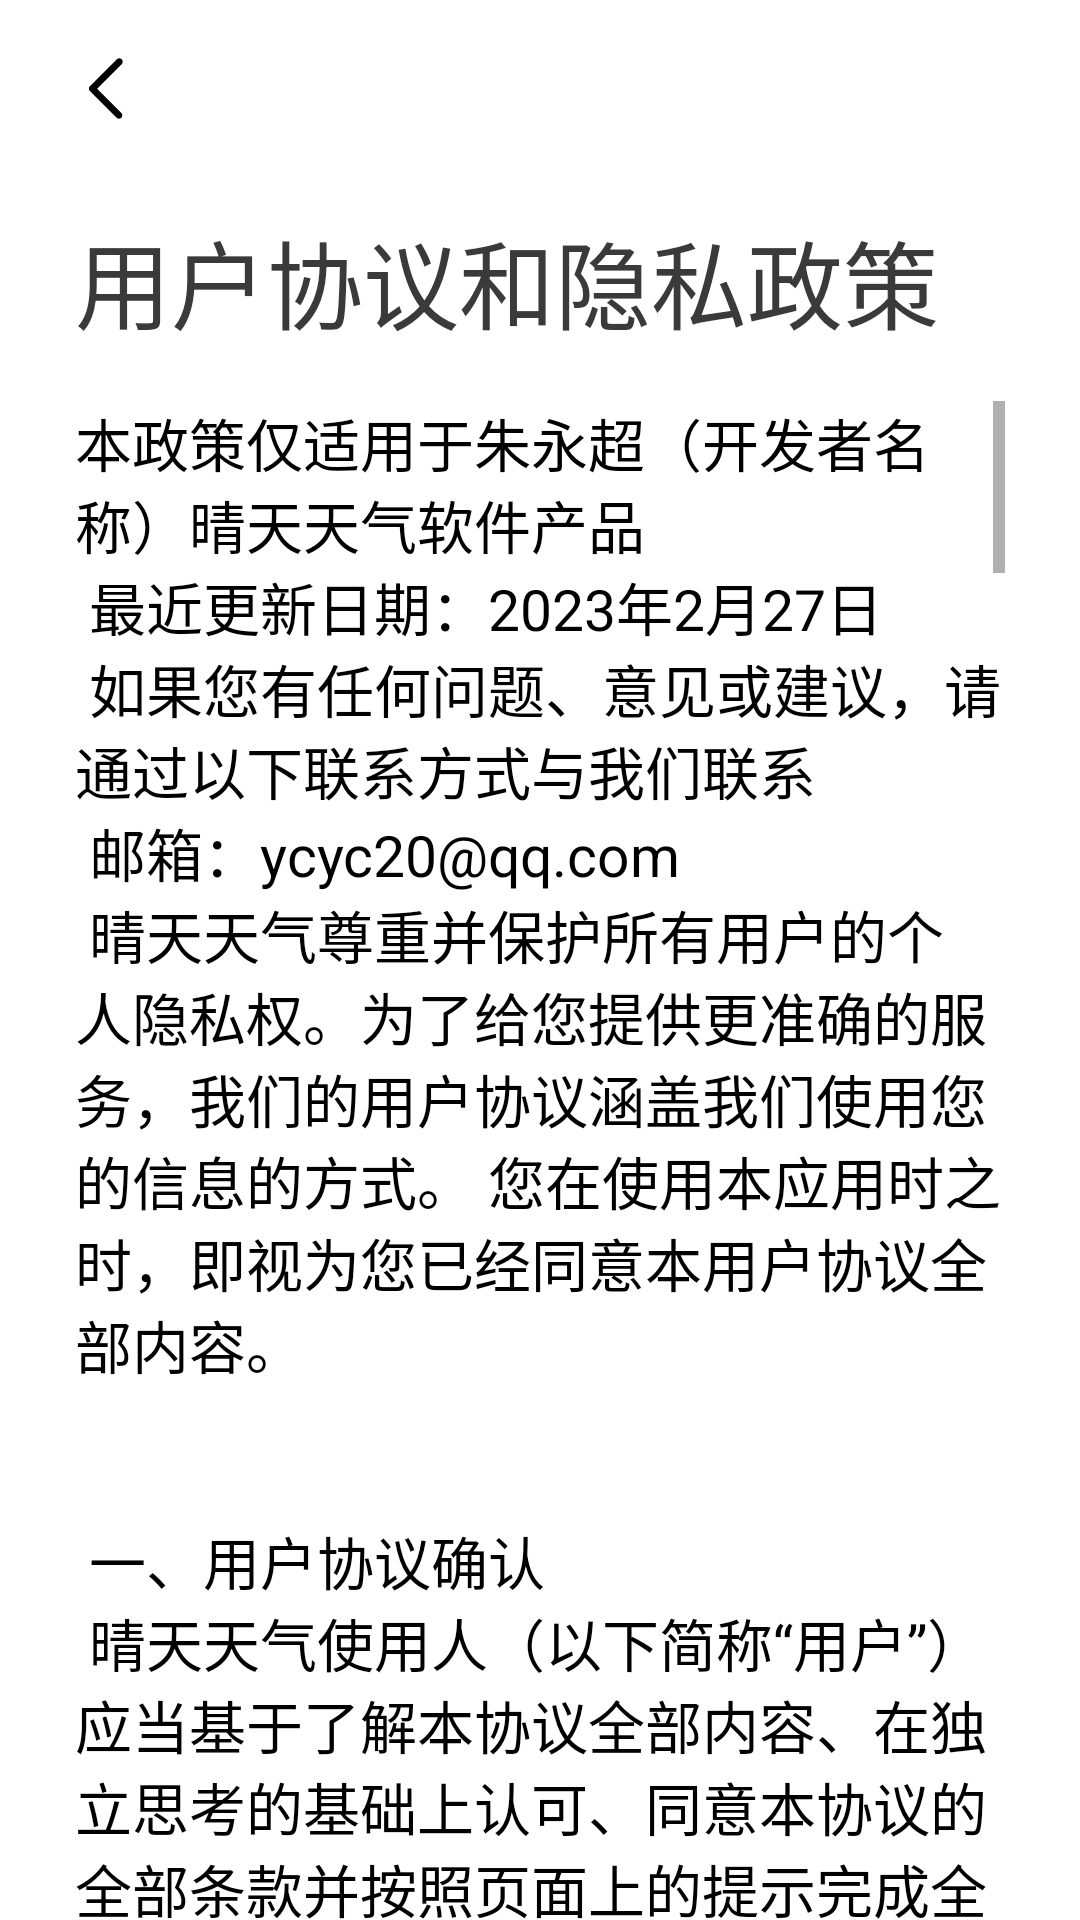

Named icons in this screenshot (1080w x 1920h) and their centers, (x=x, y=y):
iconlocationback: (x=106, y=88)
